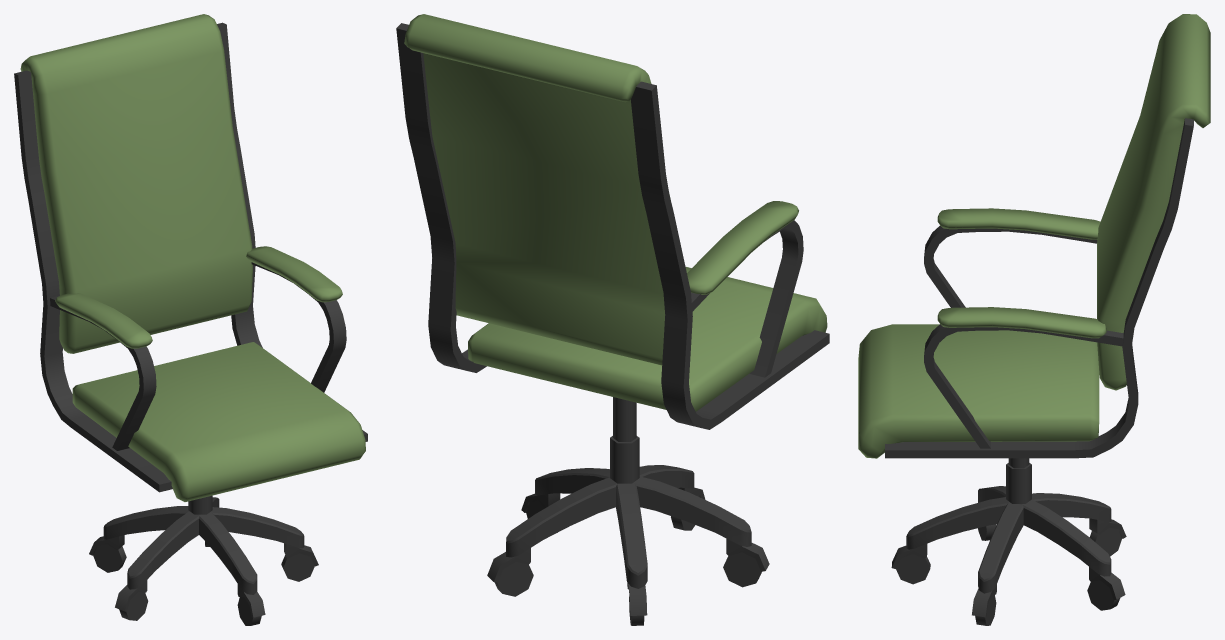
The model's file is OfficeChair_01.fbx.
3 views of the same model, side by side, from view 1: azimuth 30°, elevation 25°; view 2: azimuth 150°, elevation 25°; view 3: azimuth 270°, elevation 25° (orthographic). The views are drawn at different scales.
Parts seen in each view (by area): view 1: OfficeChair_01; view 2: OfficeChair_01; view 3: OfficeChair_01.
Boxes of the visible parts, x1,y1,x2,y2 form: OfficeChair_01: (14,14,367,625); OfficeChair_01: (396,14,829,625); OfficeChair_01: (858,14,1210,625).
Bounding box in the file's own units: 0.5225 × 1.14 × 0.694.
